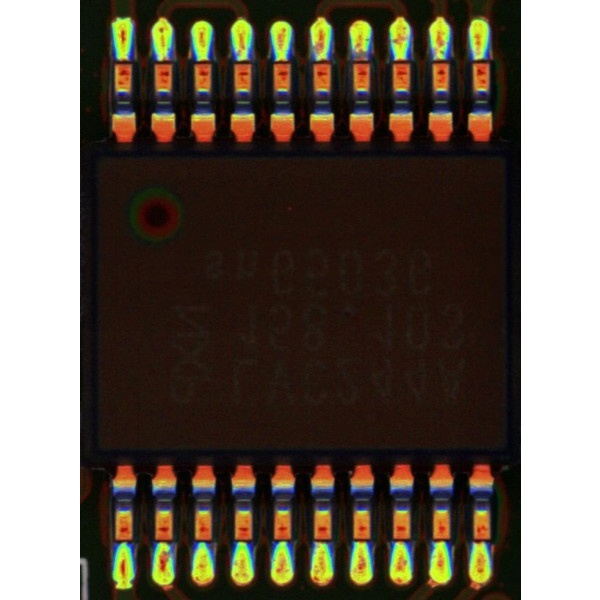Bad_podu: (355, 45, 368, 73)
